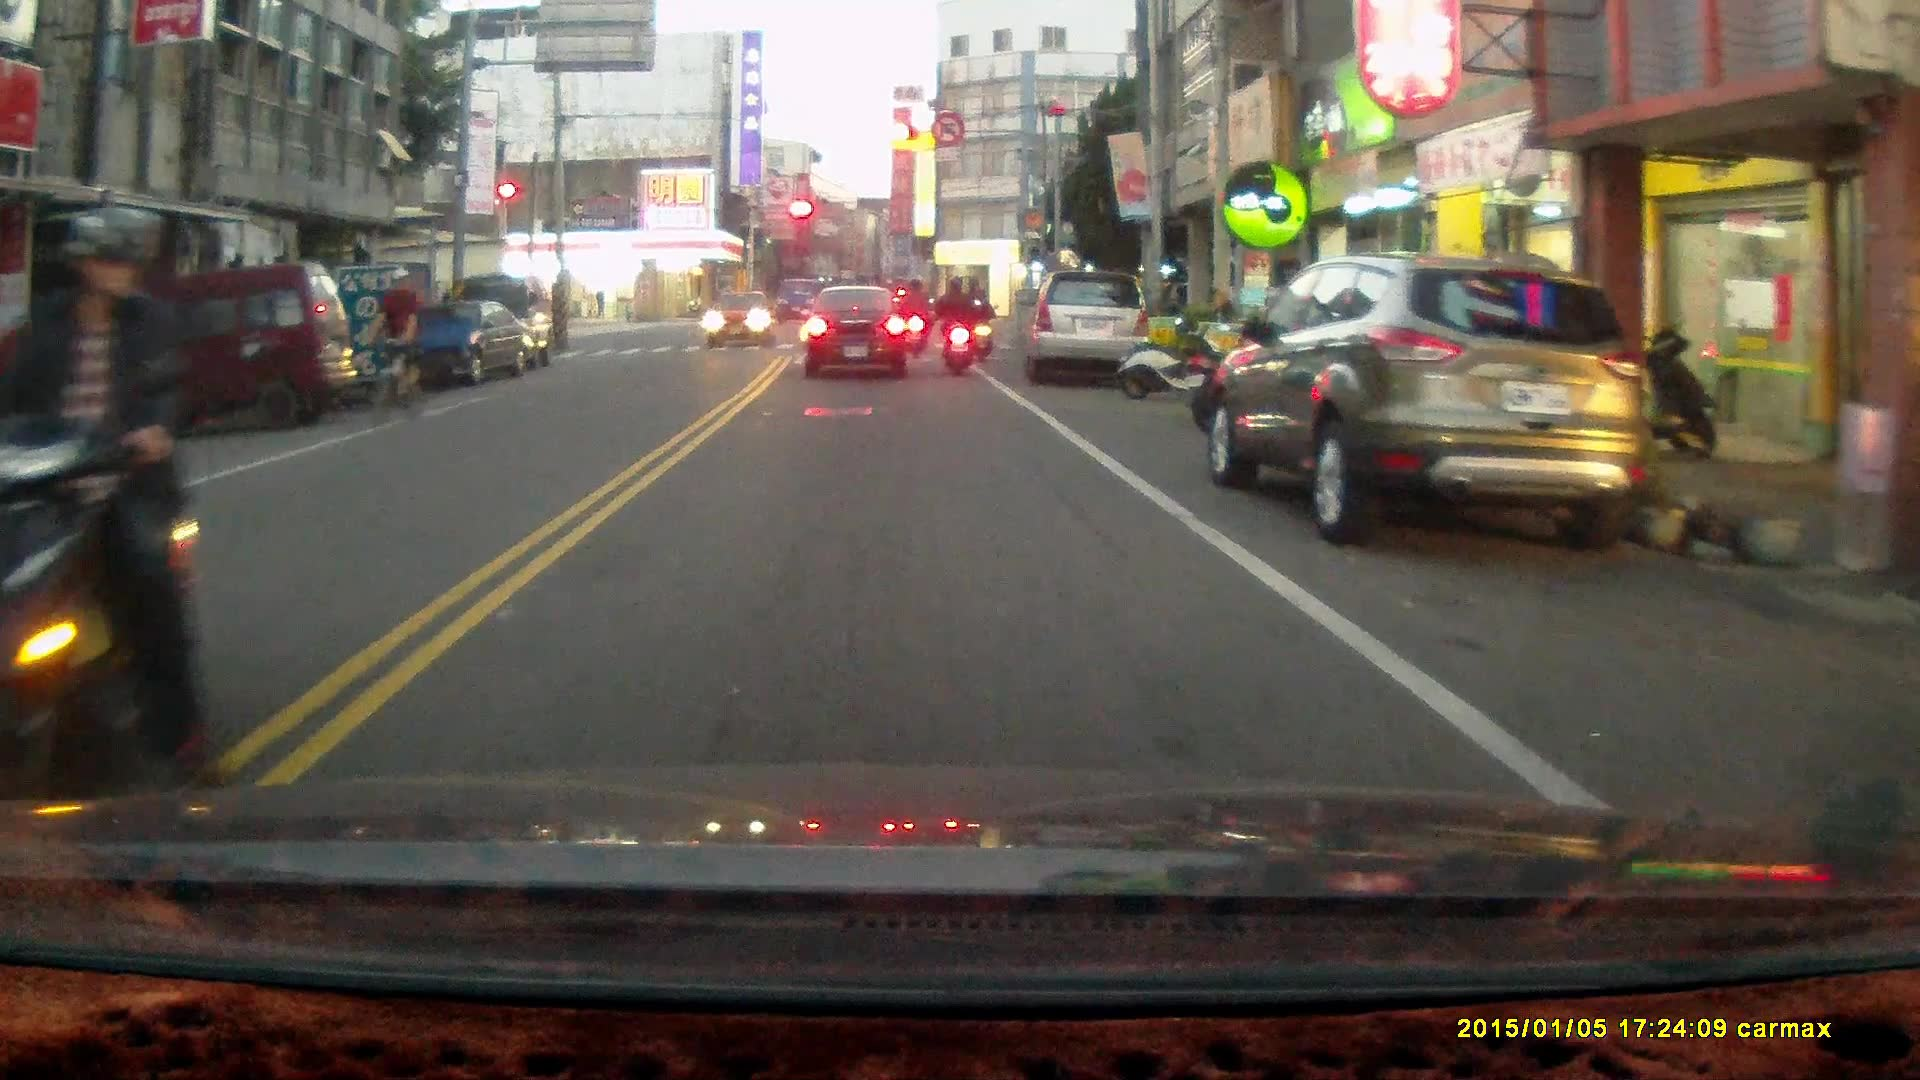rider: (0, 202, 215, 844), (368, 269, 425, 427), (930, 271, 978, 377), (895, 273, 930, 357), (964, 283, 994, 362)
vehicle: (1205, 254, 1640, 554), (92, 261, 362, 435), (1025, 270, 1155, 388), (406, 297, 527, 387), (805, 282, 913, 379), (703, 289, 775, 350)
